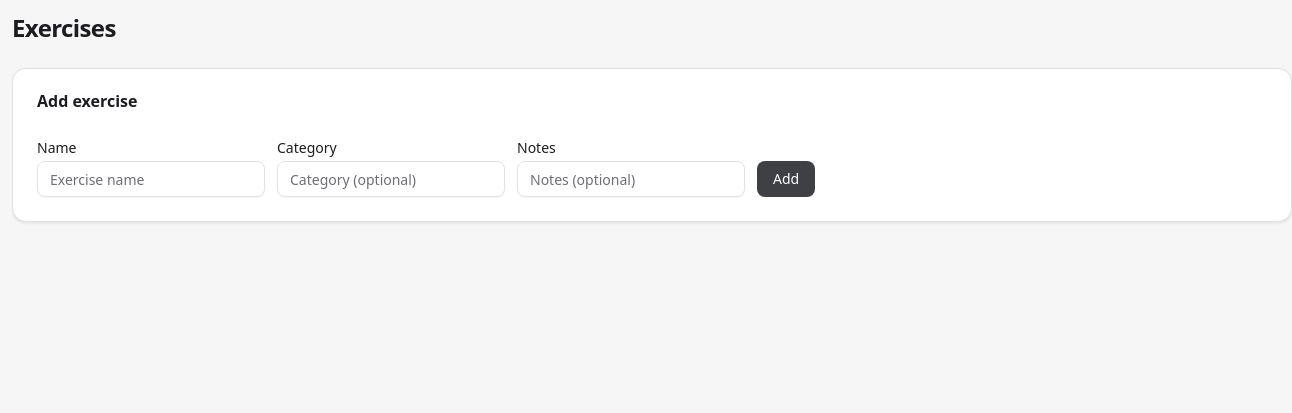
Scenario: ExercisesPage › shows a duplicate-name message on 409
Type "Deadlift" into the field with placeholder "Exercise name" at (151, 179), box [37,161,265,197]
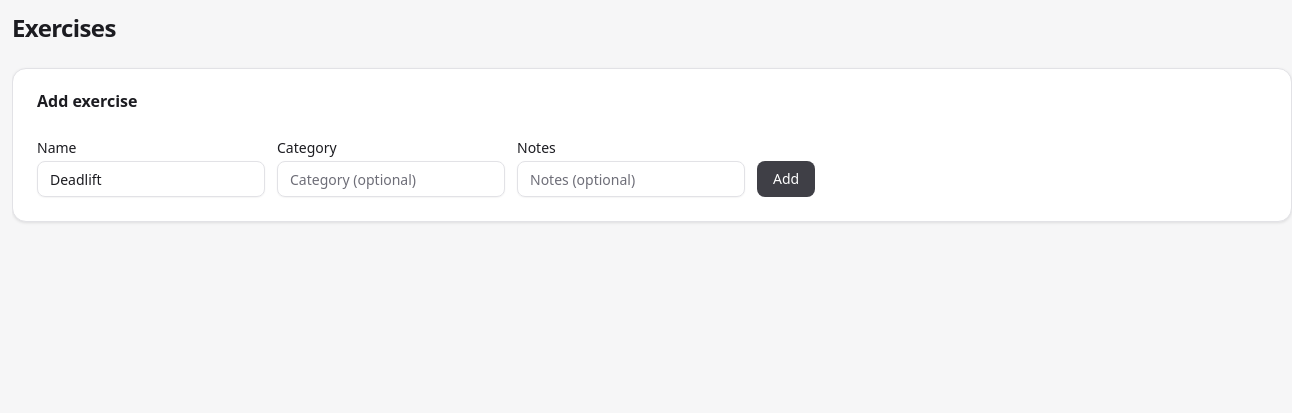
Click the button "Add" at (786, 179), box [757,161,815,197]
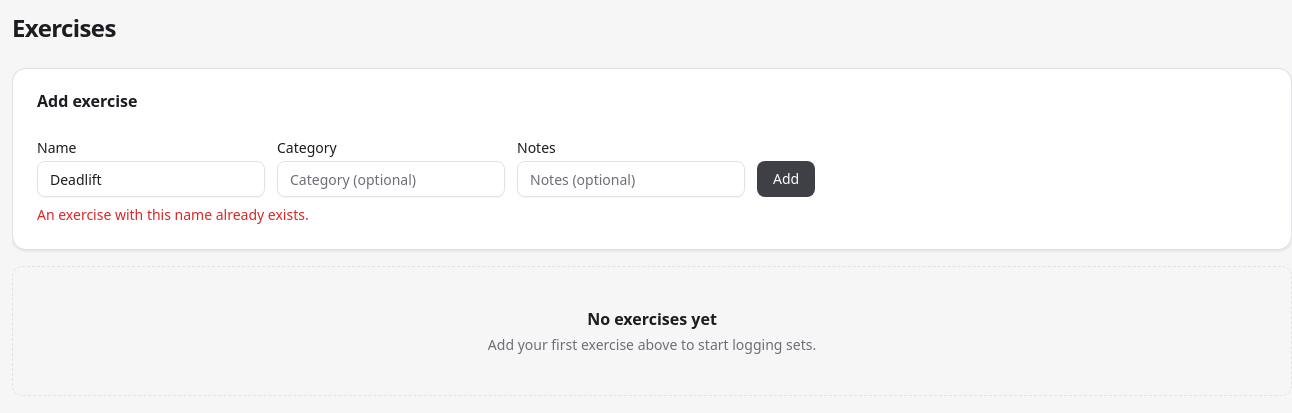
Expected: the text "An exercise with this name already exists." is shown, [37,205,309,224]
